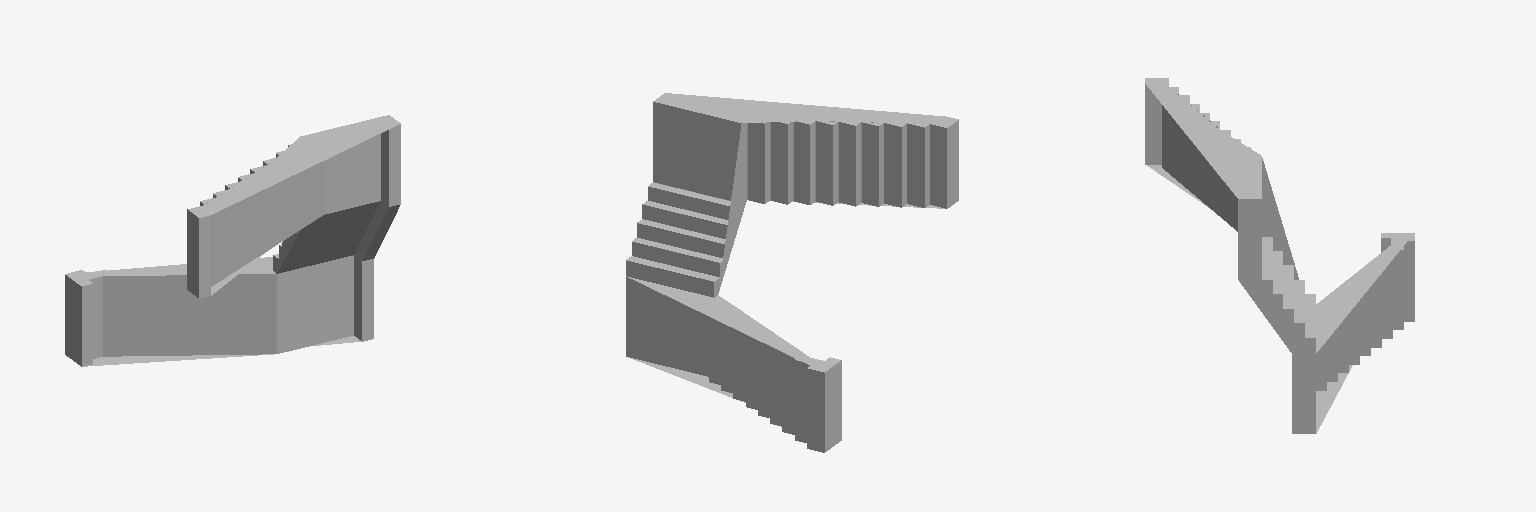
Rendered from Cau thang.obj.
The picture shows the model from 3 angles: view 1: azimuth 30°, elevation 25°; view 2: azimuth 150°, elevation 25°; view 3: azimuth 270°, elevation 25°; orthographic projection.
Parts seen in each view (by area): view 1: Mesh22 Banthang1 Model, Mesh21 Dam_chieu_nghi1 Model; view 2: Mesh22 Banthang1 Model, Mesh2 Bacthang2_1 Model, Mesh1 Bacthang2_1 Model, Mesh13 Bacthang2_1 Model, Mesh4 Bacthang2_1 Model, Mesh12 Bacthang2_1 Model, Mesh11 Bacthang2_1 Model, Mesh3 Bacthang2_1 Model, Mesh8 Bacthang2_1 Model, Mesh10 Bacthang2_1 Model, Mesh7 Bacthang2_1 Model; view 3: Mesh22 Banthang1 Model, Mesh1 Bacthang2_1 Model, Mesh21 Dam_chieu_nghi1 Model, Mesh2 Bacthang2_1 Model.
Boxes of the visible parts, x1,y1,x2,y2 form: Mesh22 Banthang1 Model: [65, 115, 400, 366]; Mesh21 Dam_chieu_nghi1 Model: [354, 115, 400, 341]; Mesh22 Banthang1 Model: [626, 93, 958, 452]; Mesh2 Bacthang2_1 Model: [626, 183, 736, 297]; Mesh1 Bacthang2_1 Model: [709, 298, 810, 442]; Mesh13 Bacthang2_1 Model: [884, 123, 906, 207]; Mesh4 Bacthang2_1 Model: [907, 123, 929, 207]; Mesh12 Bacthang2_1 Model: [839, 122, 860, 206]; Mesh11 Bacthang2_1 Model: [816, 121, 837, 205]; Mesh3 Bacthang2_1 Model: [862, 122, 883, 206]; Mesh8 Bacthang2_1 Model: [771, 120, 792, 204]; Mesh10 Bacthang2_1 Model: [748, 120, 769, 203]; Mesh7 Bacthang2_1 Model: [794, 121, 814, 204]; Mesh22 Banthang1 Model: [1145, 78, 1414, 433]; Mesh1 Bacthang2_1 Model: [1316, 246, 1403, 390]; Mesh21 Dam_chieu_nghi1 Model: [1238, 193, 1315, 433]; Mesh2 Bacthang2_1 Model: [1262, 237, 1315, 351].
Size of the model in its own units: 4200 by 3800 by 3950.